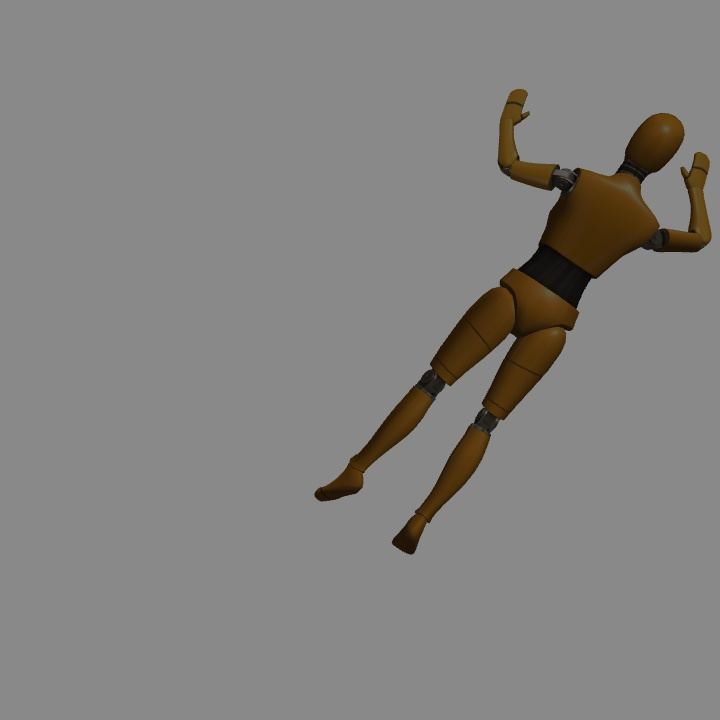victim: (318, 111, 711, 554)
